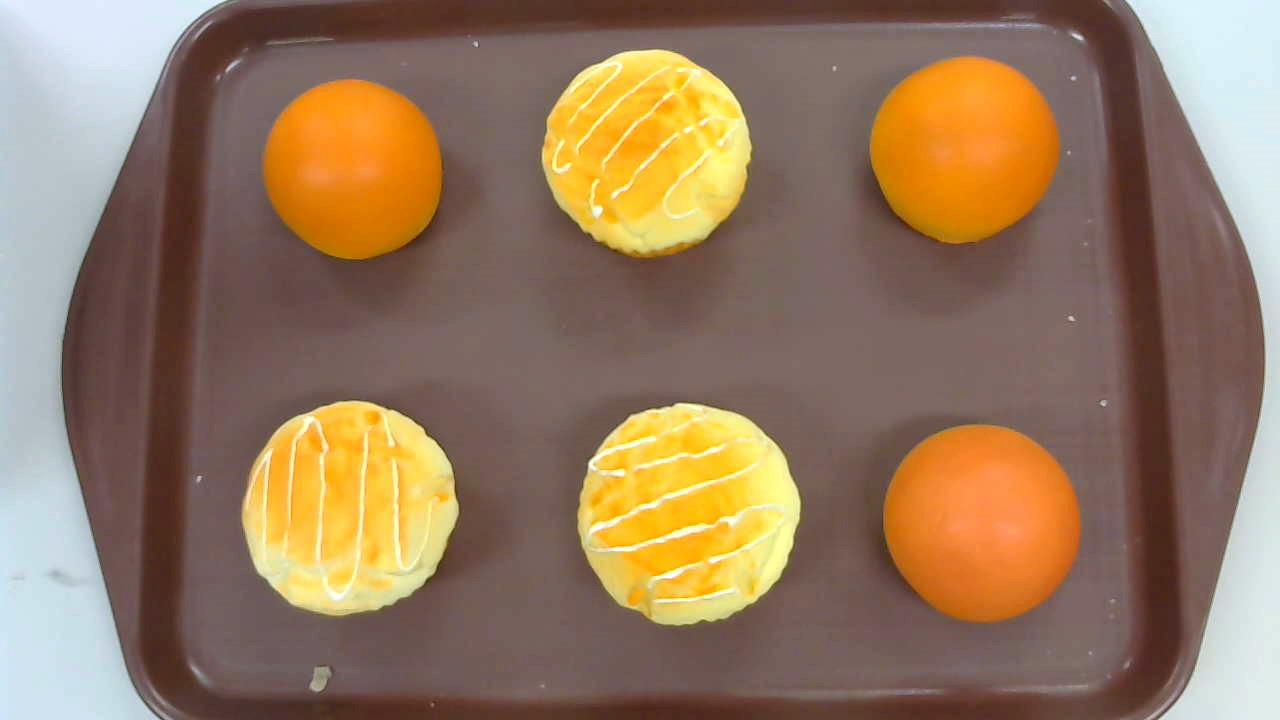bun: (883, 422, 1079, 624), (869, 56, 1060, 244), (262, 78, 443, 261)
cupcake: (577, 402, 801, 626), (241, 400, 460, 616), (542, 47, 752, 260)
